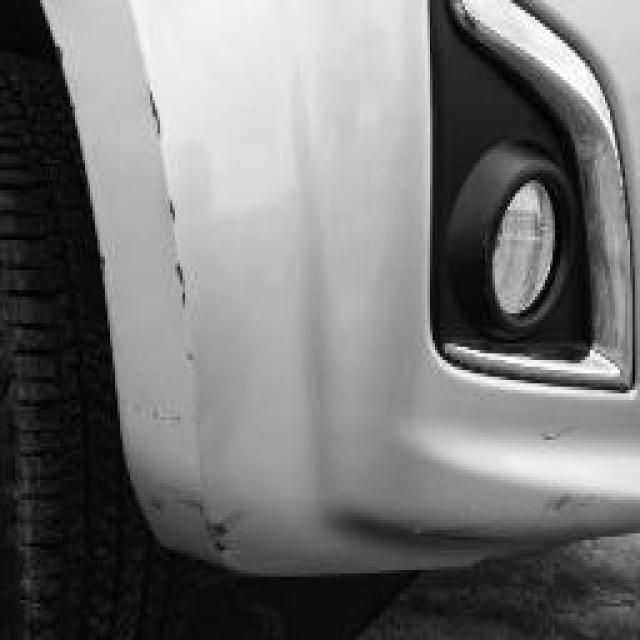Bumper: (50, 3, 330, 587)
